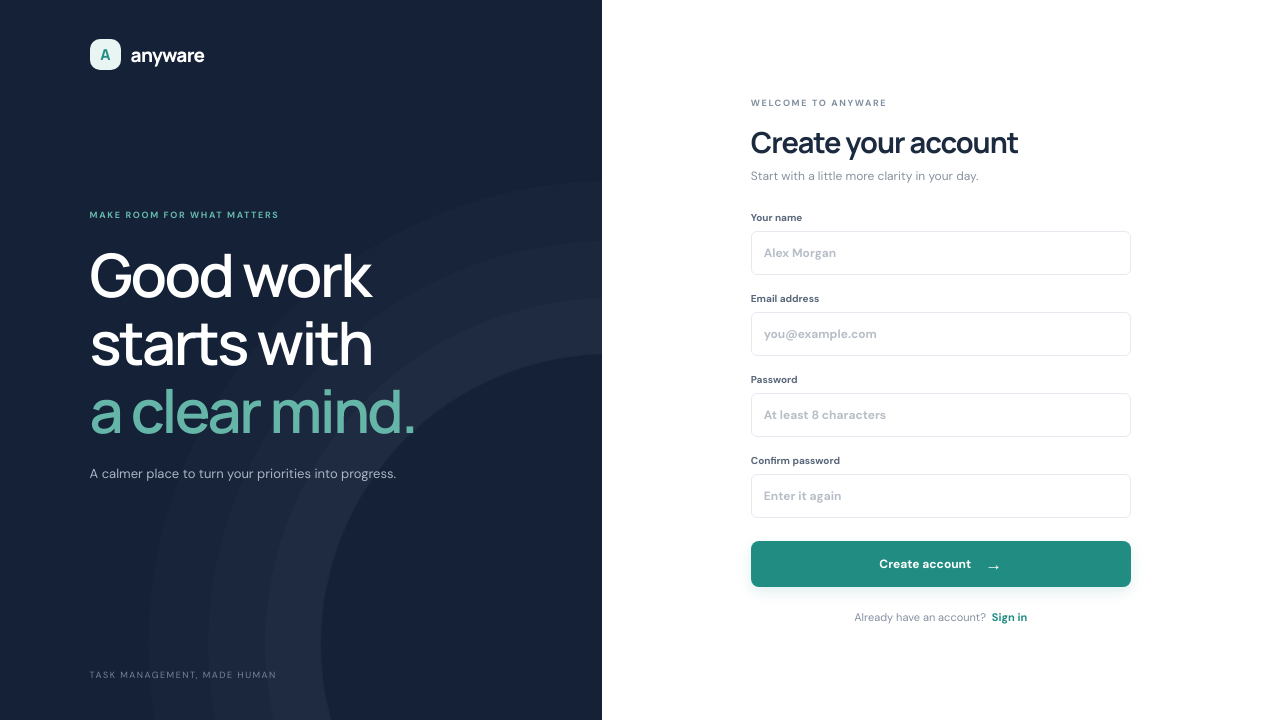
authentication forms › rejects mismatched registration passwords before submitting
Type "Donny" into the field labelled "Your name". click: (941, 252)
box: [751,230,1131,274]
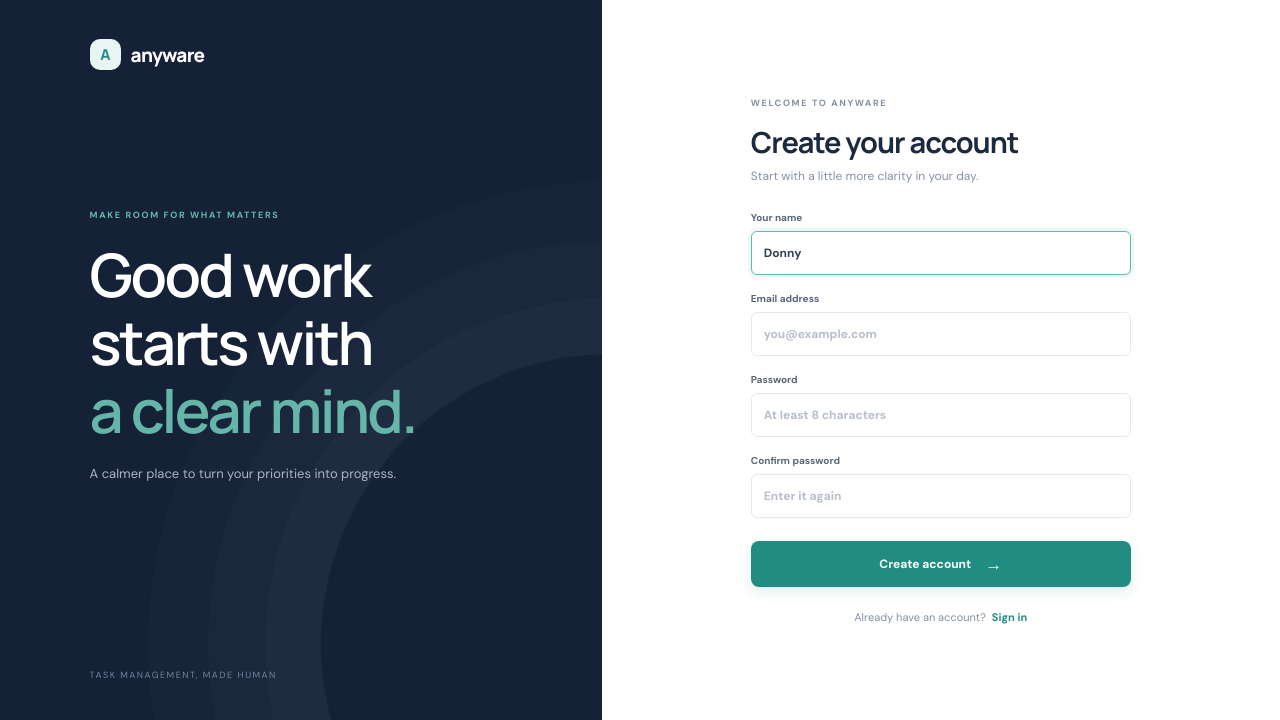
Type "donny@example.com" into the field labelled "Email address". click: (941, 334)
box: [751,312,1131,356]
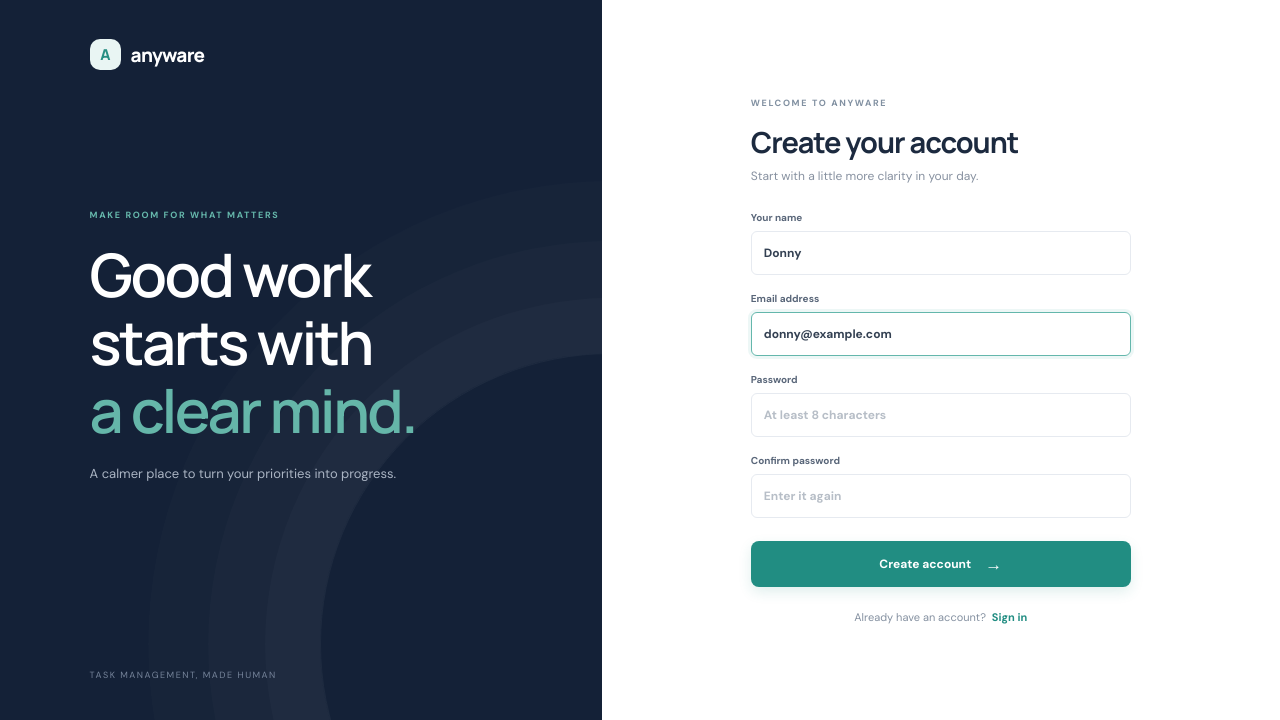
Type "correct-horse" into the password field labelled "Password". click: (941, 414)
box: [751,392,1131,436]
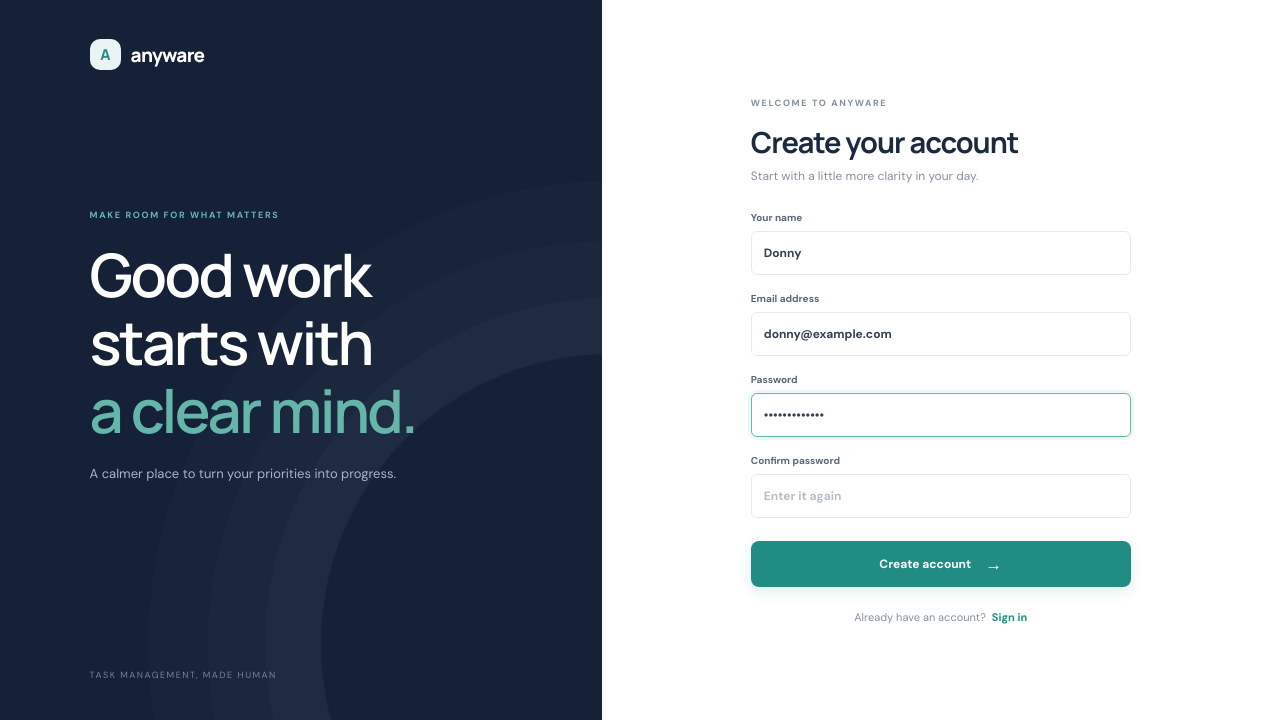
Type "different-horse" into the password field labelled "Confirm password". click: (941, 496)
box: [751,474,1131,518]
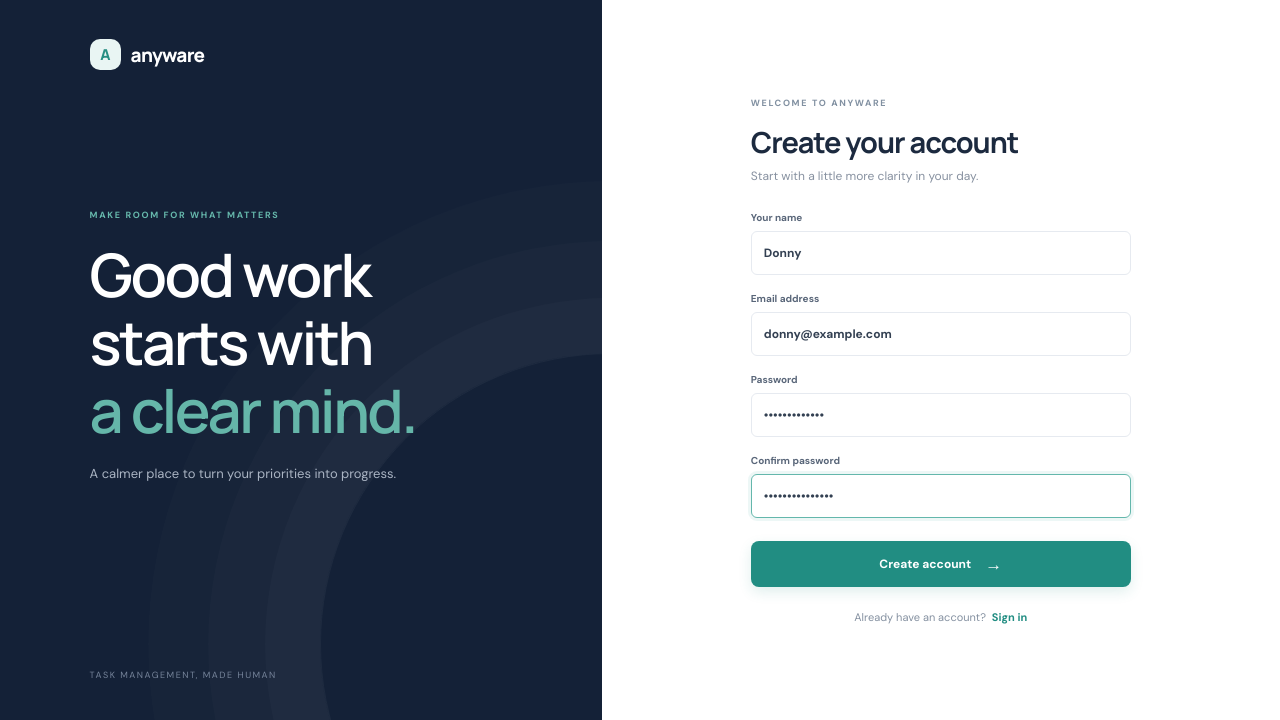
Click the button "Create account →". click: (941, 564)
box: [751,540,1131,586]
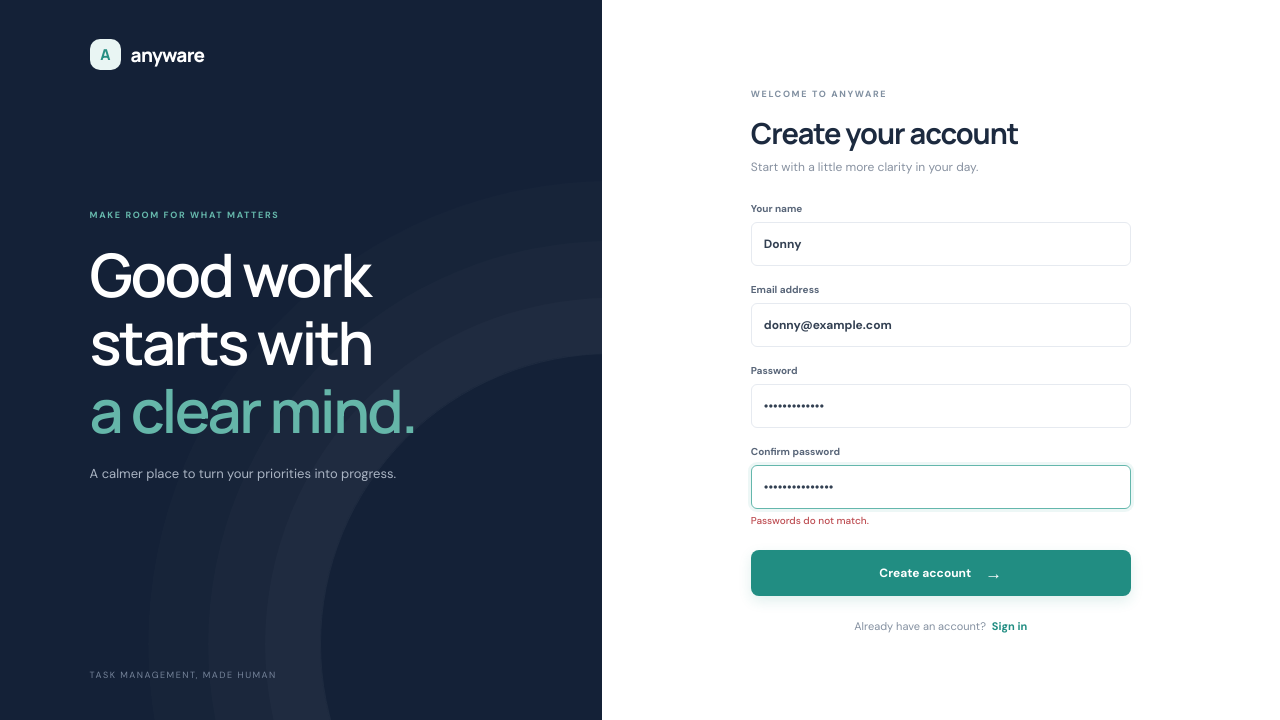
expect the text "Passwords do not match." is shown: met, box [751,514,869,526]
